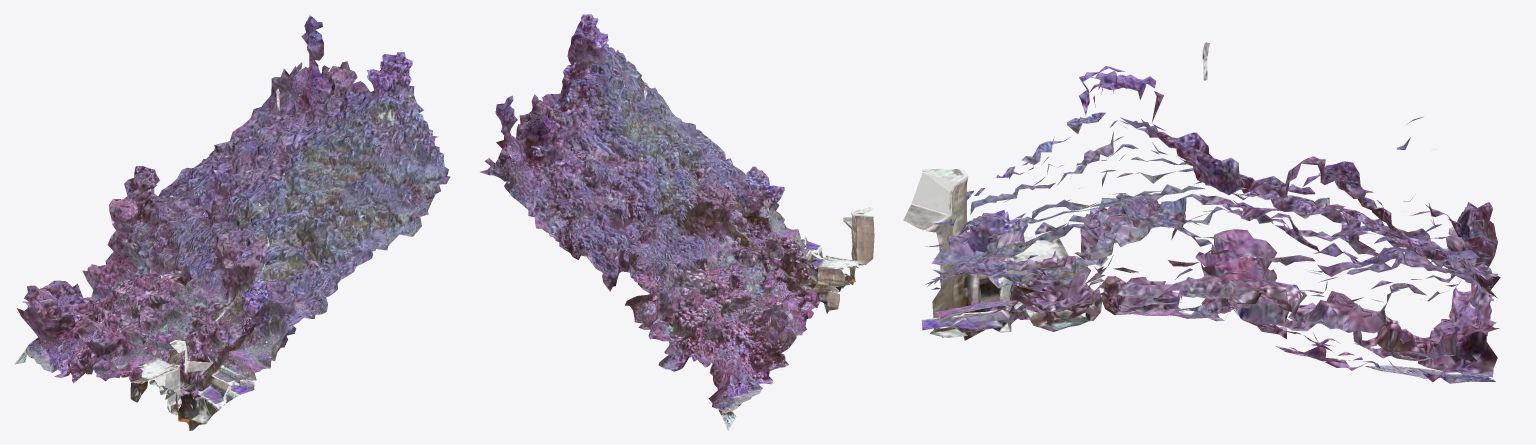
The model's file is Tile_+012_+019_L19_000021.glb.
3 views of the same model, side by side, from view 1: azimuth 30°, elevation 25°; view 2: azimuth 150°, elevation 25°; view 3: azimuth 270°, elevation 25° (orthographic). The views are drawn at different scales.
Parts seen in each view (by area): view 1: rtc; view 2: rtc; view 3: rtc.
Part boxes in pixels (x1,y1,x2,y2): rtc: (14, 15, 450, 430); rtc: (480, 14, 874, 430); rtc: (903, 42, 1500, 383).
Bounding box in the file's own units: 55.13 × 57.85 × 56.73.
Materials: 1 (1 with a texture image).
